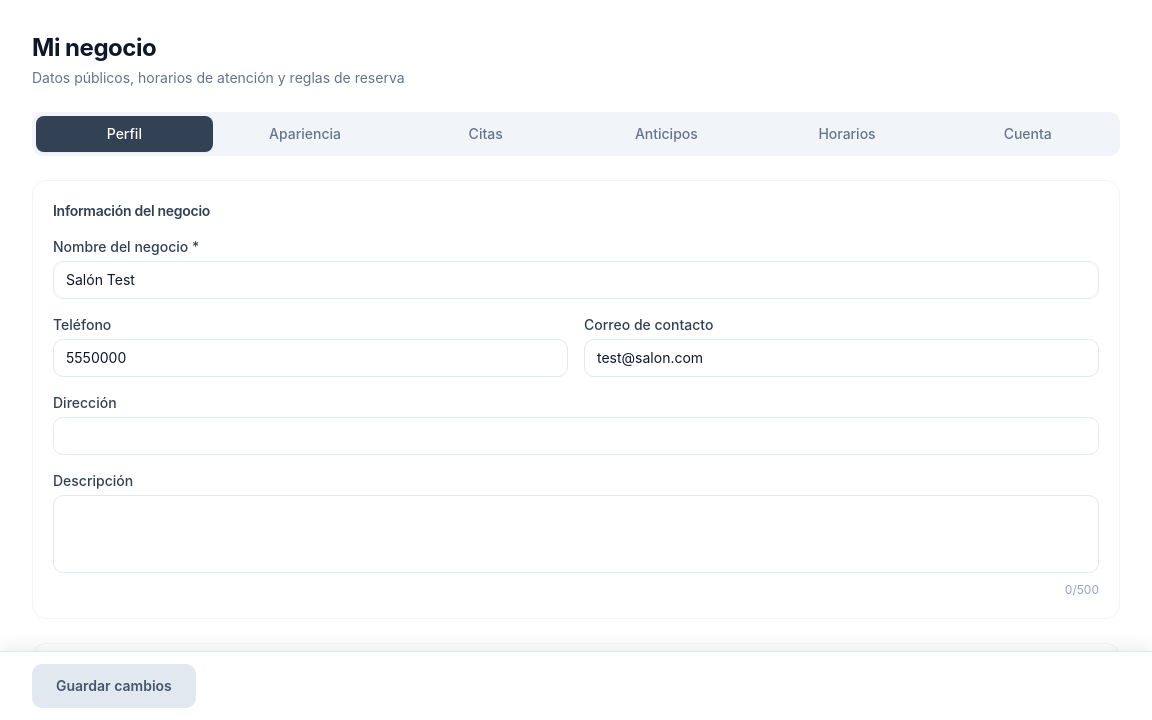
PerfilPage — 5 tabs › clic en Anticipos muestra el toggle de RequiereAnticipo
Click the button "Anticipos" at (666, 134), box [578, 116, 755, 152]
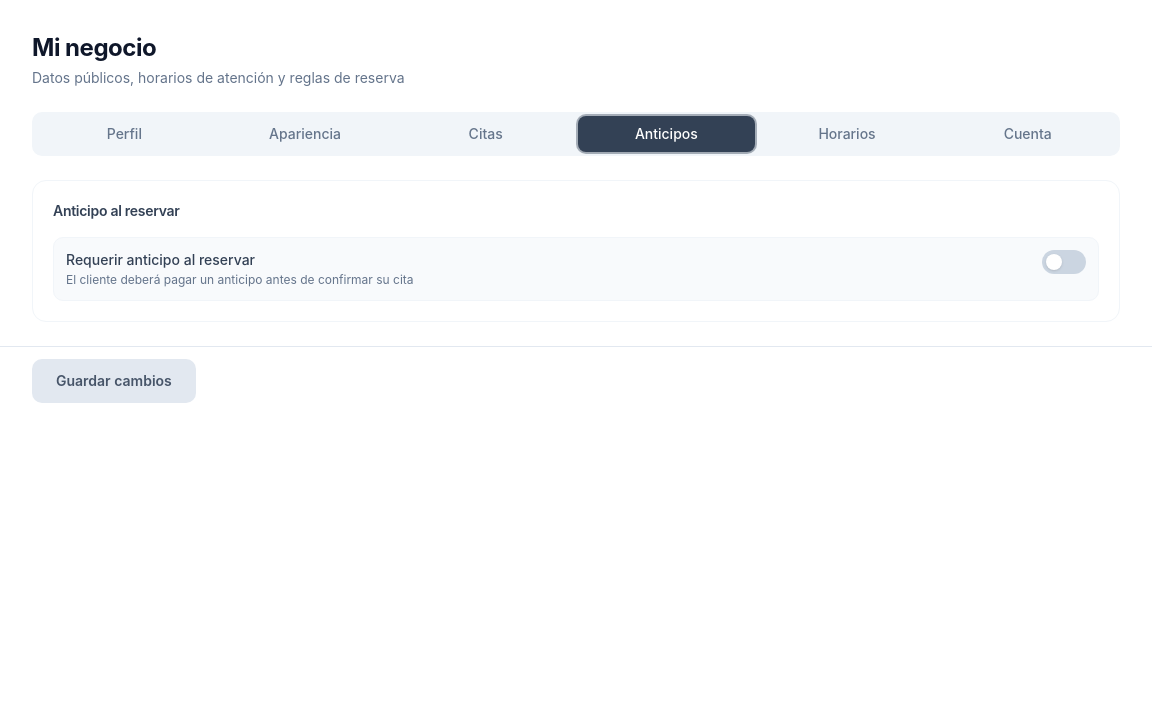
Now the text "Requerir anticipo al reservar" is shown, box [66, 251, 255, 268]
